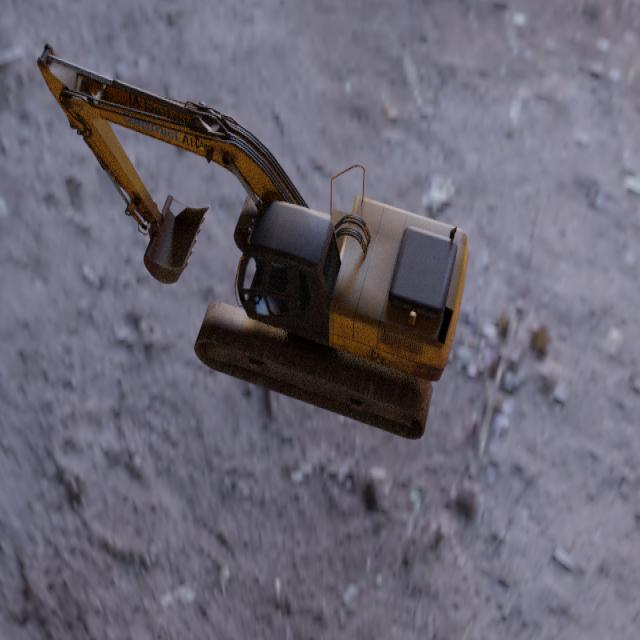excavator: (36, 41, 468, 440)
